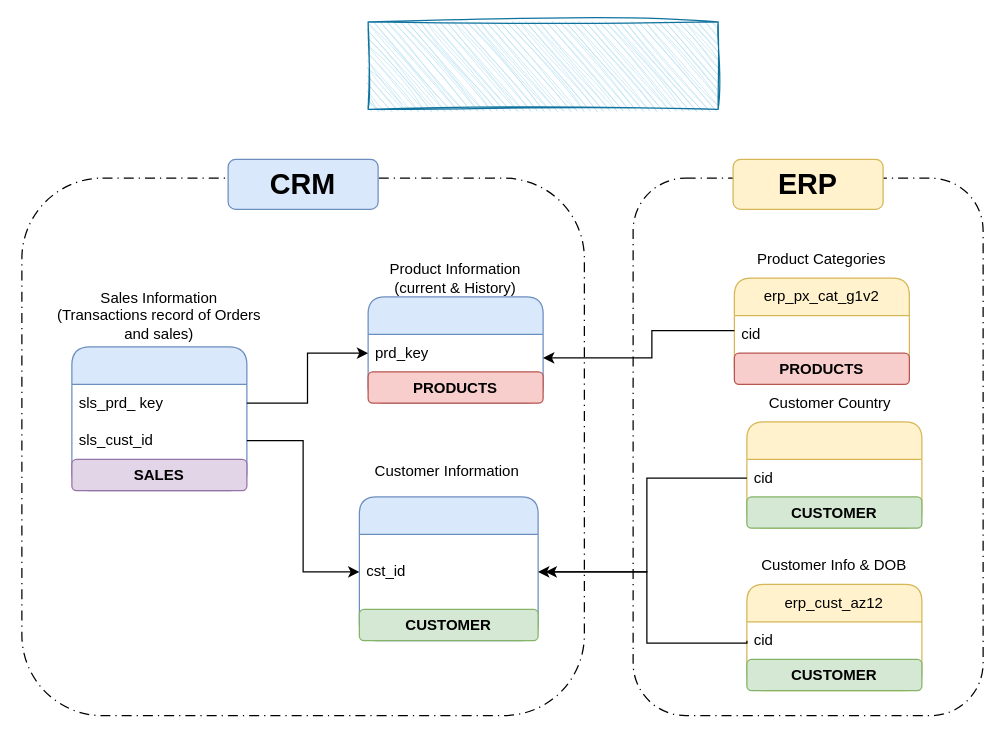
Some shapes in this 1005 by 738 pixel diagram are drawn without their labels. Each missing label, with the box of its shape:
crm_cust_info: (358, 496, 538, 641)
crm_prd_info: (367, 296, 543, 403)
crm_sales_details: (71, 346, 247, 491)
Data Integration Model (How the tables are related): (367, 21, 718, 109)
erp_loc_a101: (746, 421, 922, 528)
